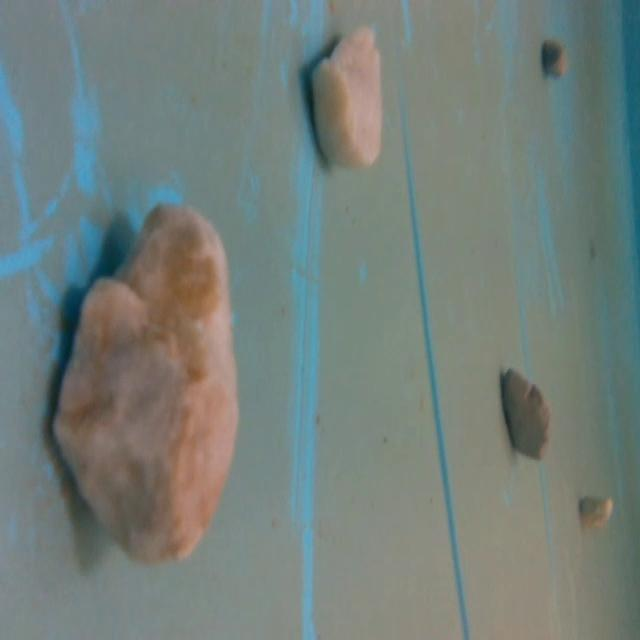rock: (45, 194, 246, 572), (306, 19, 392, 175), (502, 362, 555, 468), (575, 489, 618, 534), (539, 36, 571, 81)
